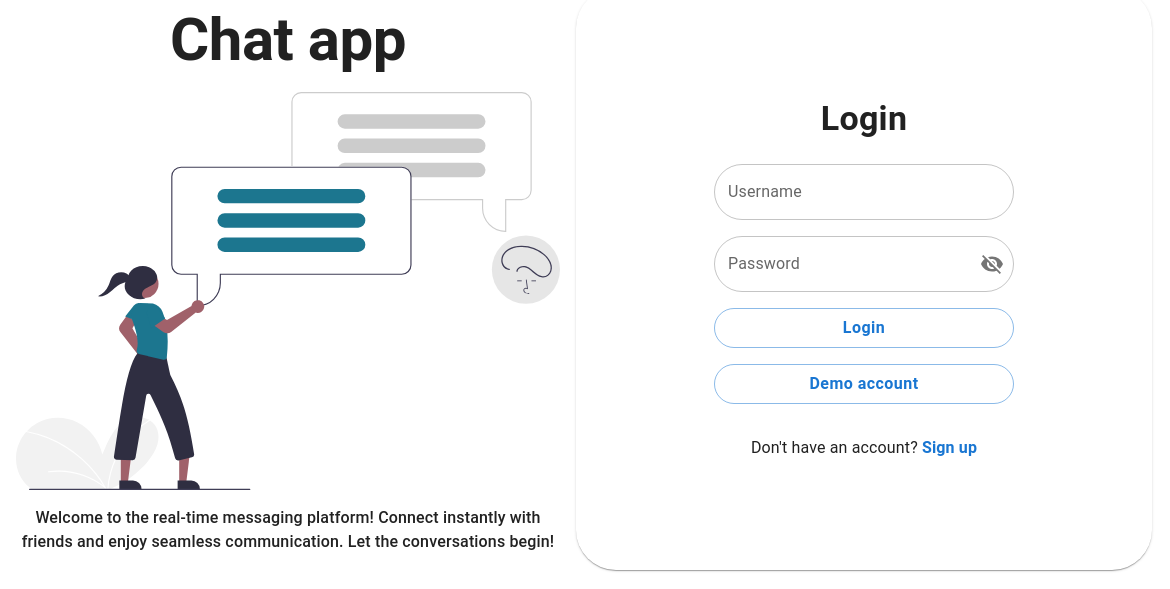
Change from SignUp to Login component
Check: the heading "Login" is shown, box [821, 98, 907, 140]
Click the link with test id "sign-up-login-link" at (950, 448), box [922, 438, 977, 457]
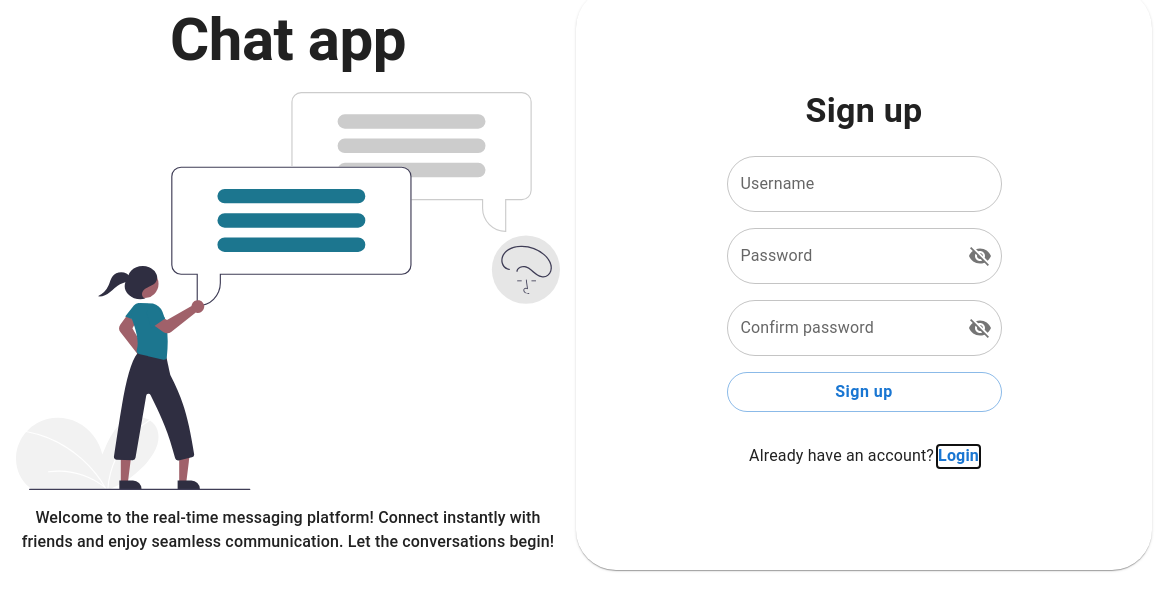
Check: the text "Already have an account?" is shown, box [749, 446, 934, 465]
Click the link with test id "sign-up-login-link" at (958, 456), box [938, 446, 979, 465]
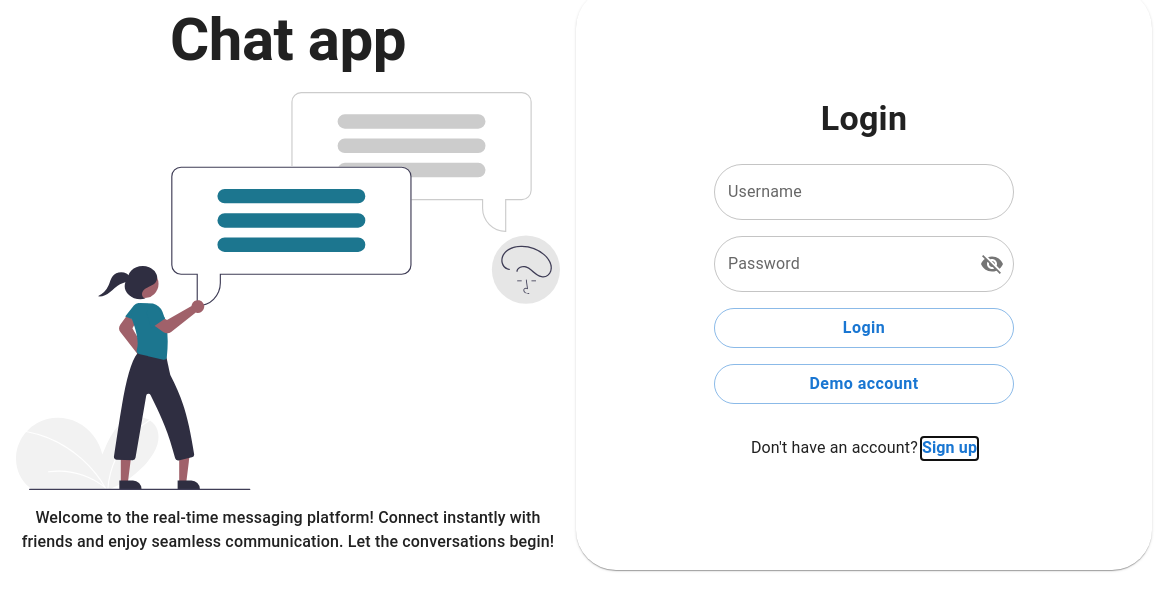
Check: the text "Don't have an account?" is shown, box [751, 438, 918, 457]
